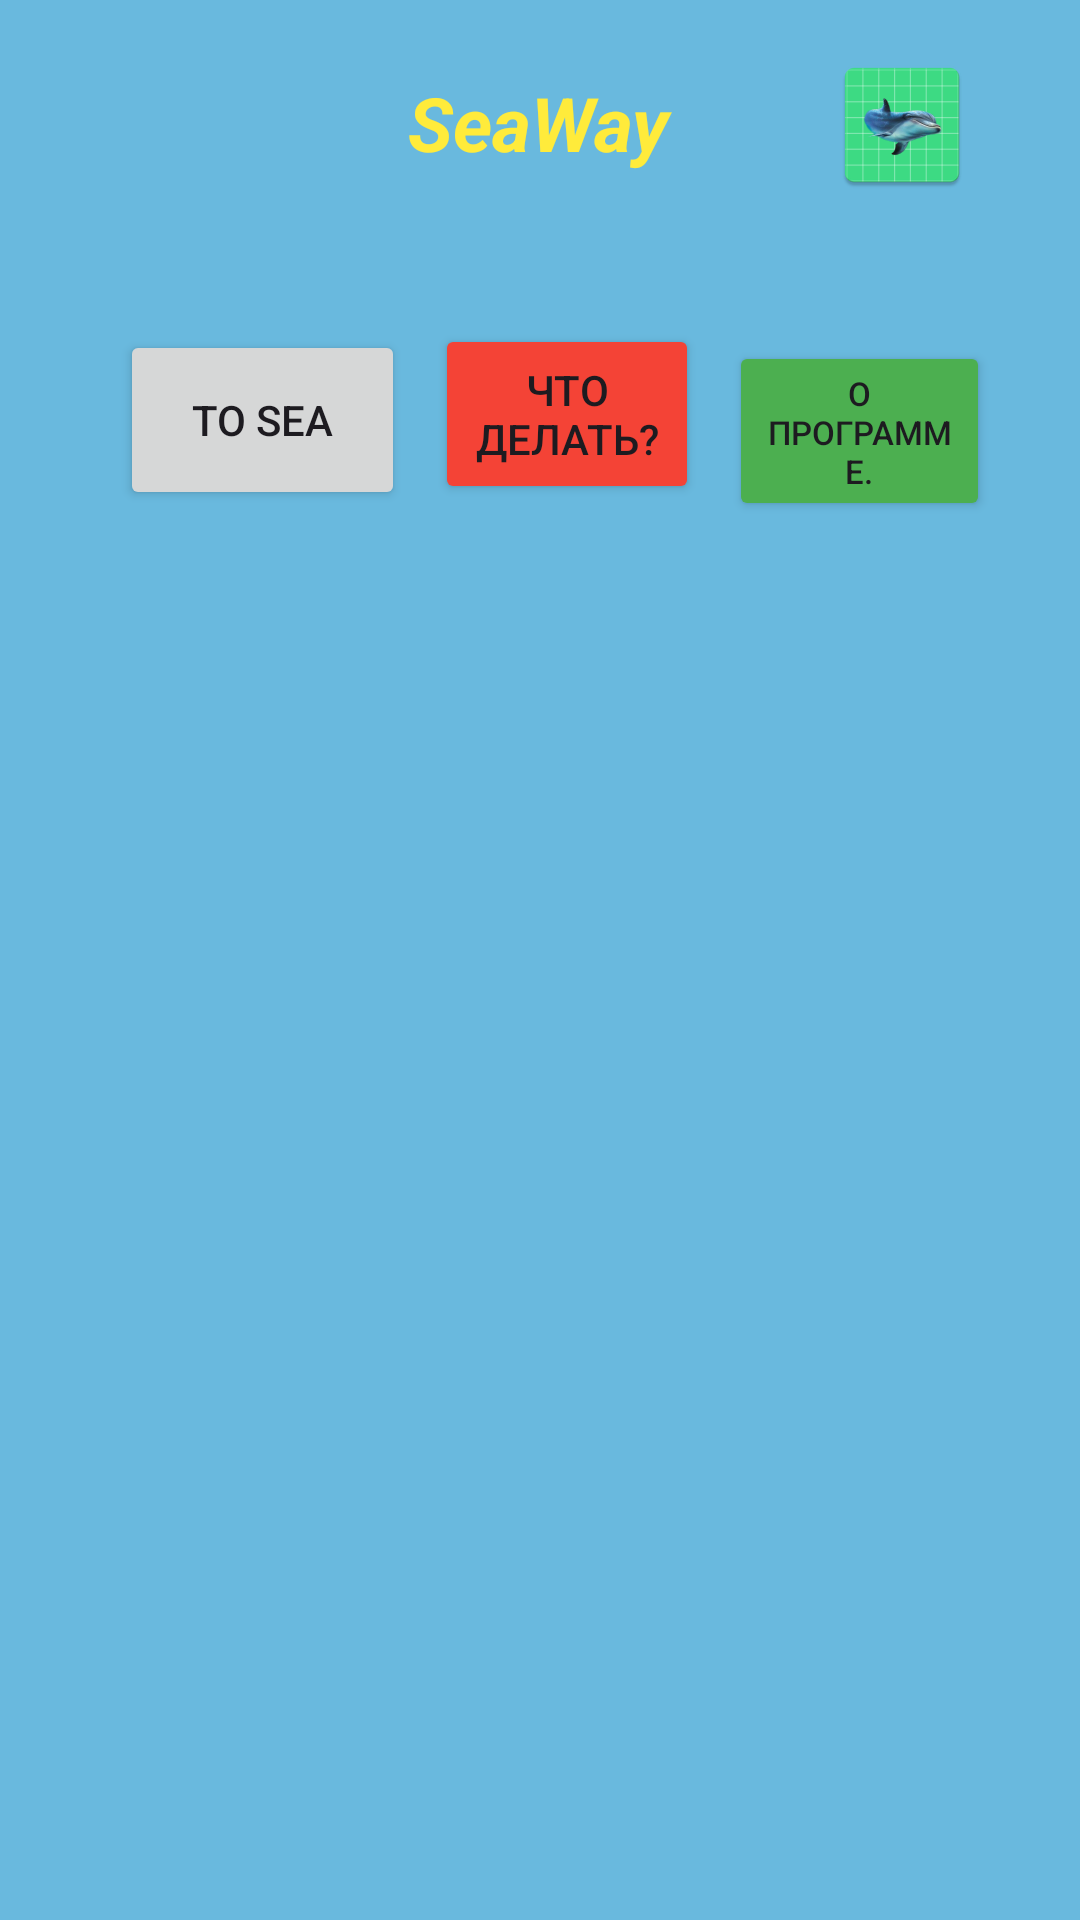

Where to tap for icons on this 1080x1920 app screen, as [x,y]:
dolphin: [902,126]
